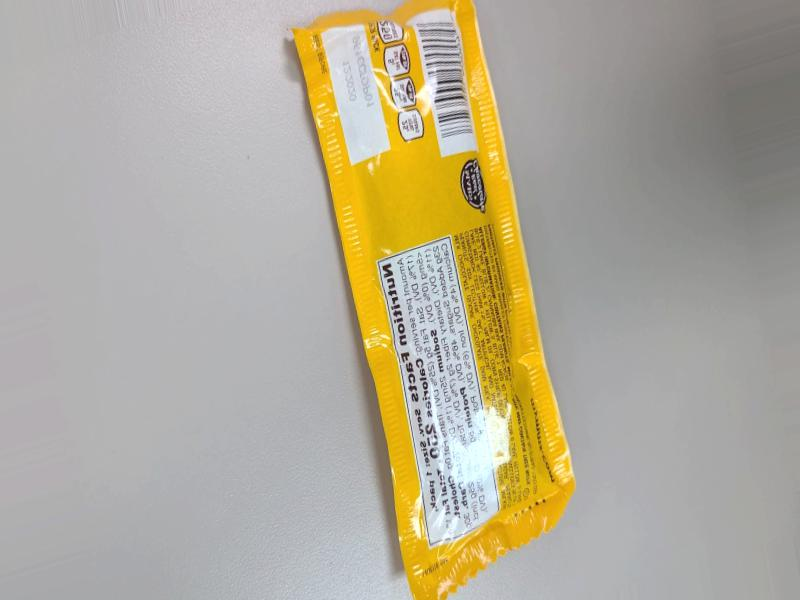m&m: (282, 54, 632, 586)
